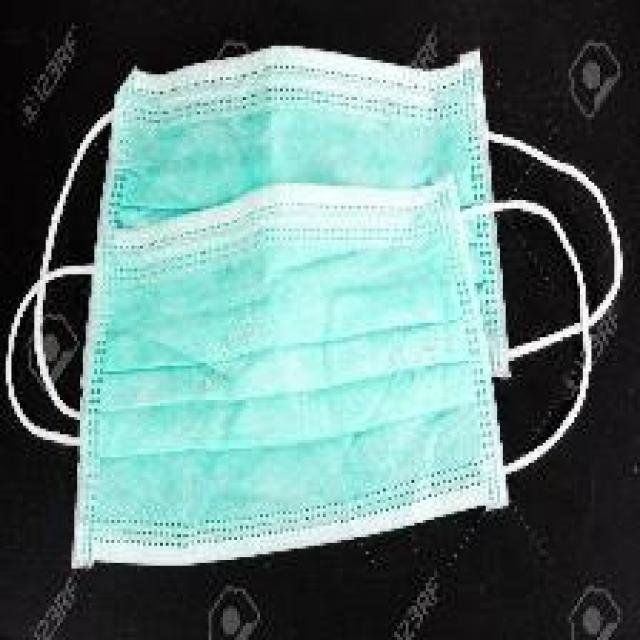Mask: (24, 80, 610, 590)
